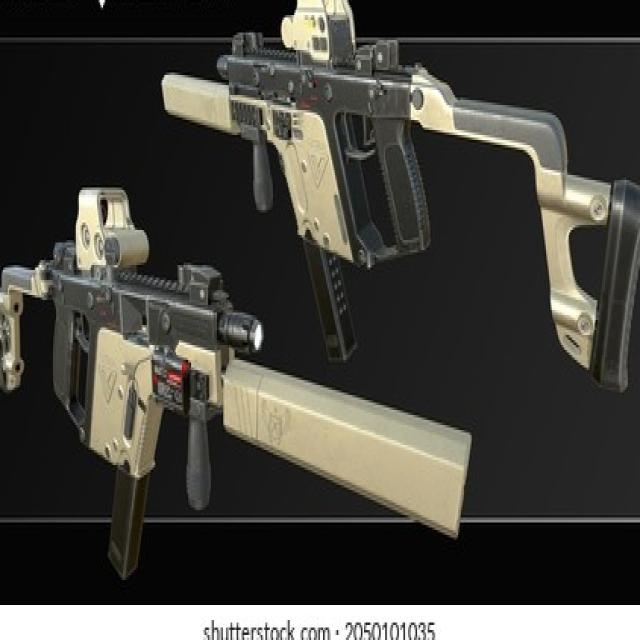Weapon: (161, 0, 640, 385), (0, 188, 467, 575)
